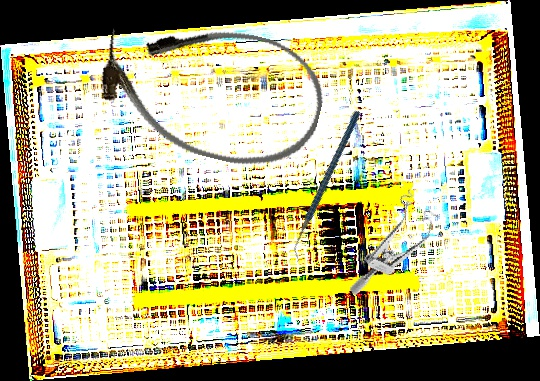Cannula: (88, 2, 335, 181)
Chopper: (250, 109, 404, 264)
Speculum: (348, 183, 445, 314)
